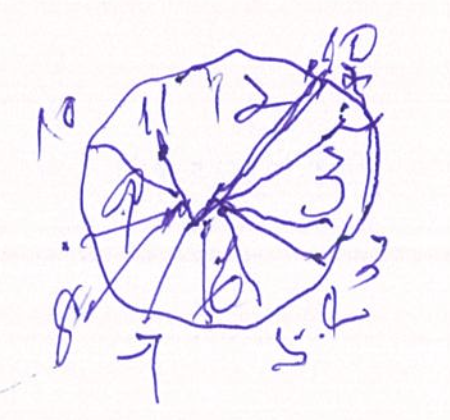10: (34, 96, 80, 158), (321, 20, 382, 66)
11: (138, 80, 176, 137)
2: (338, 60, 374, 88)
3: (301, 145, 348, 216), (349, 230, 389, 289)
4: (319, 288, 372, 339)
5: (268, 325, 312, 372)
6: (205, 235, 245, 316)
7: (117, 330, 167, 407)
8: (50, 282, 82, 369)
9: (101, 166, 142, 256)
contour: (74, 46, 383, 333), (212, 76, 299, 124)
